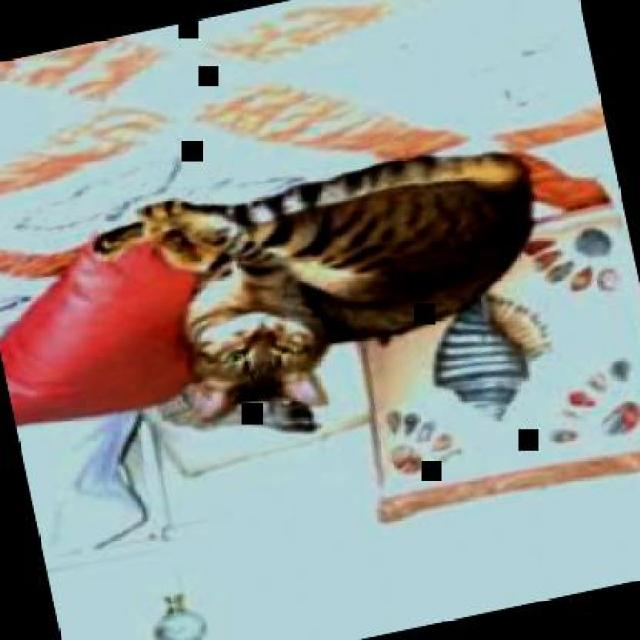cat: (85, 123, 567, 448)
